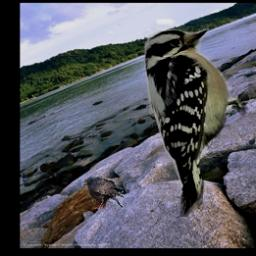Crow: (82, 178, 125, 210)
Woodpecker: (141, 25, 256, 217)
